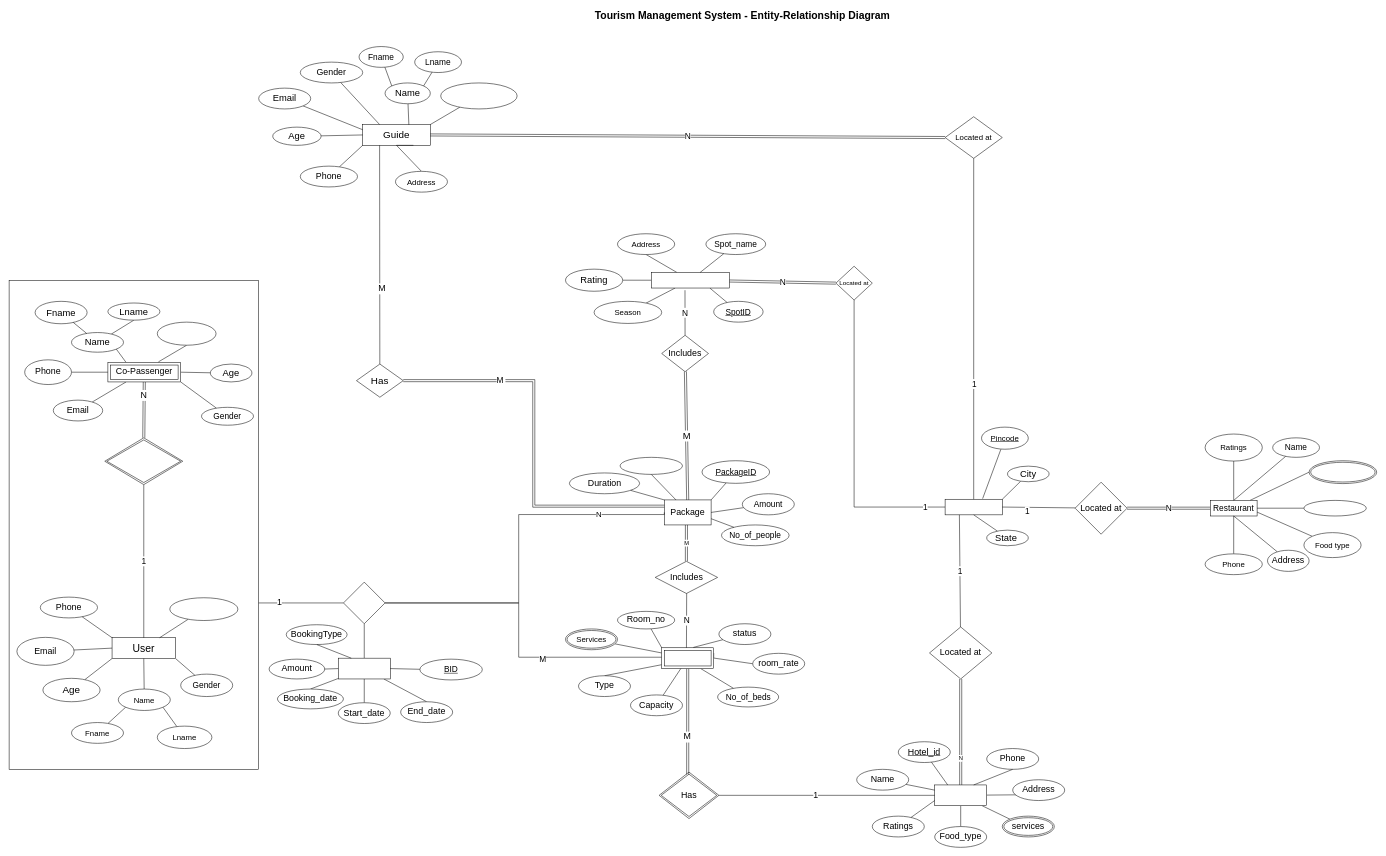
Image size: 1386x856. Some labels were removed from this diagram. Here are the shapes that lost their labels. From the top down, the centre of each, then its label:
At [478,95]: "GuideAadharNo".
At [690,280]: "SightSeeing_Spot".
At [186,333]: "CoPassID".
At [143,461]: "Travels With".
At [651,465]: "Title".
At [1343,472]: "Cuisines".
At [973,507]: "Location".
At [1334,508]: "RestaurantID".
At [203,609]: "UserAadharNo".
At [364,603]: "Books".
At [364,668]: "Booking".
At [687,658]: "Room".
At [960,795]: "Hotel".
